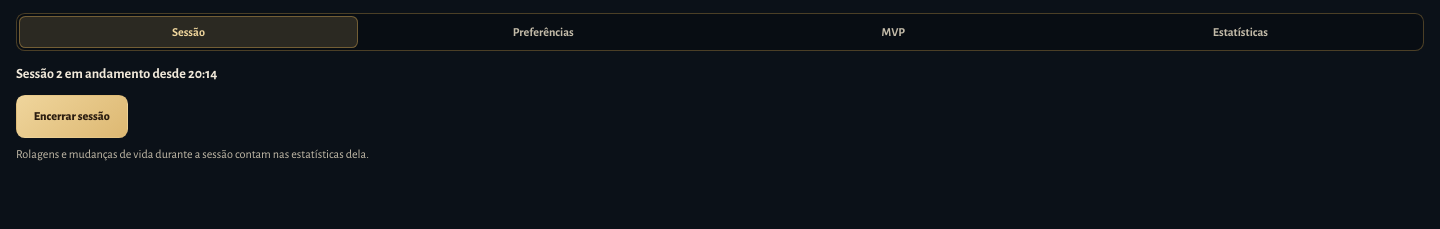
it: aba Mestre › lista os MVPs anteriores
Click the tab "MVP". click: (893, 32)
box: [729,16,1058,48]
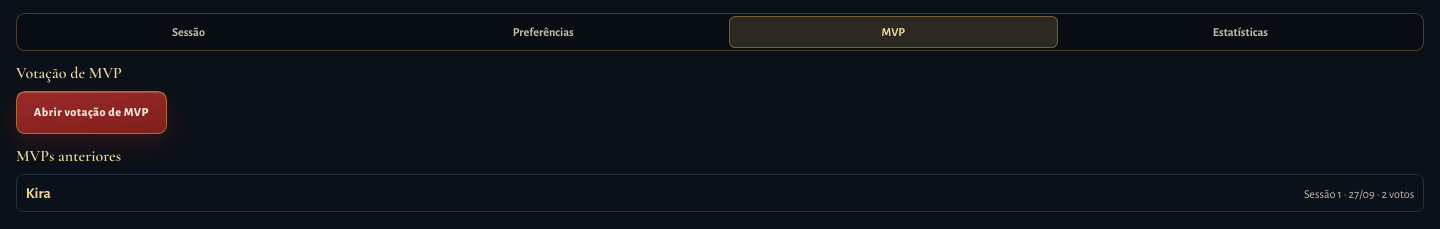
expect the element "MVPs anteriores" shows "Kira": met, box [26,186,51,200]
expect the element "MVPs anteriores" shows "Sessão 1": met, box [1304,188,1414,200]
expect the element "MVPs anteriores" shows "2 votos": met, box [1304,188,1414,200]
